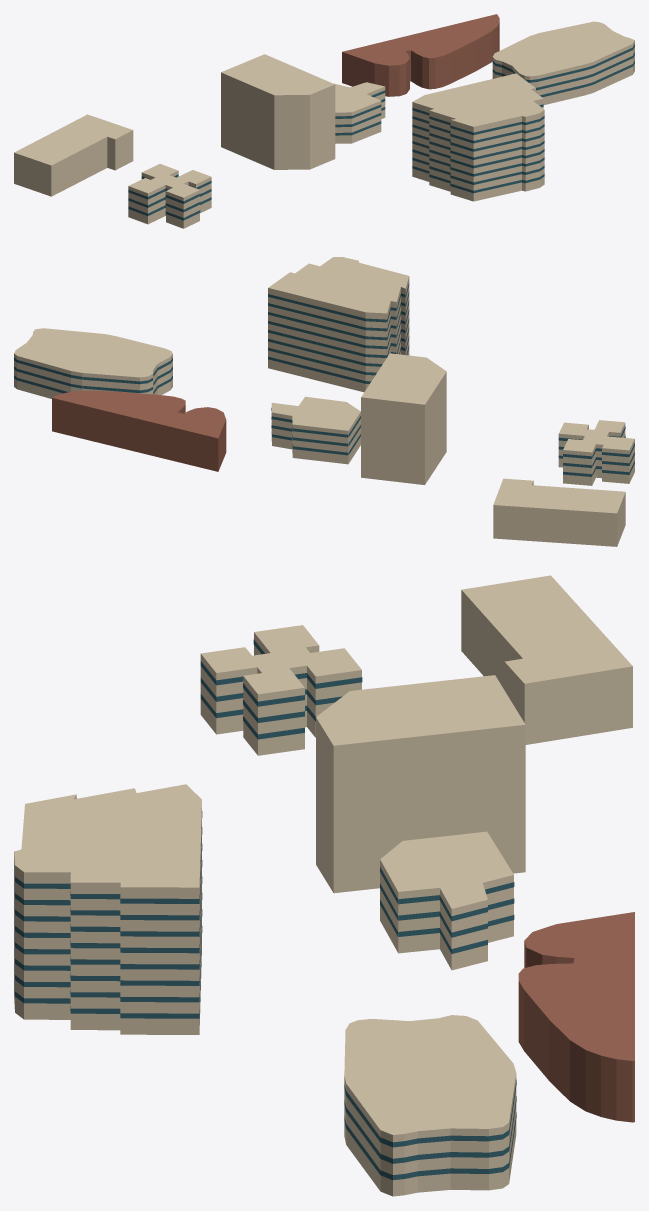
File: city_5_6.glb
The picture shows the model from 3 angles, top to bottom: view 1: azimuth 30°, elevation 25°; view 2: azimuth 150°, elevation 25°; view 3: azimuth 270°, elevation 25°; orthographic projection. The views are drawn at different scales.
Parts seen in each view (by area): view 1: city_5_6; view 2: city_5_6; view 3: city_5_6.
Part boxes in pixels (x1=…): city_5_6: x1=14, y1=14, x2=634, y2=228; city_5_6: x1=14, y1=257, x2=634, y2=546; city_5_6: x1=14, y1=575, x2=634, y2=1196.
Size of the model in its own units: 293 by 36 by 137.
